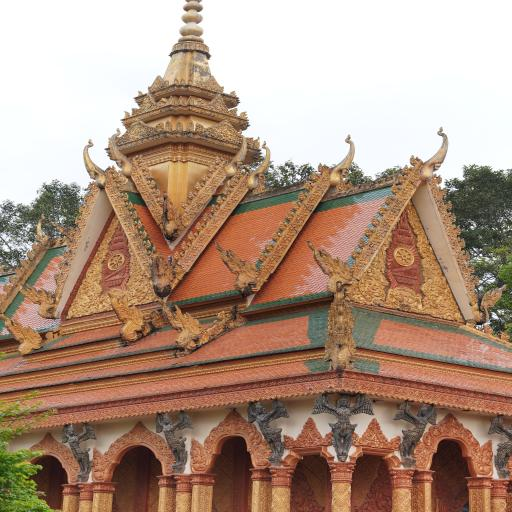lua: (238, 137, 290, 195), (410, 124, 460, 182), (325, 132, 369, 190), (218, 130, 251, 181), (102, 128, 136, 174), (77, 136, 108, 179), (31, 212, 46, 244), (43, 329, 58, 343), (348, 247, 364, 260), (193, 221, 209, 234), (184, 231, 200, 243), (177, 240, 194, 251), (220, 186, 236, 197), (276, 219, 288, 233), (284, 209, 298, 221), (2, 282, 16, 294), (172, 250, 187, 261), (375, 203, 387, 216), (390, 183, 403, 195), (146, 178, 159, 190), (369, 215, 383, 226), (256, 251, 270, 262), (204, 164, 218, 175), (178, 198, 192, 209), (232, 168, 247, 178), (383, 194, 395, 206), (396, 174, 408, 186), (432, 173, 444, 185), (451, 223, 463, 235), (456, 236, 468, 248), (465, 261, 477, 273), (264, 239, 276, 251), (271, 230, 283, 242), (212, 195, 228, 204), (212, 154, 224, 166), (297, 190, 310, 201), (303, 180, 317, 190), (13, 268, 27, 278), (223, 178, 238, 187), (364, 225, 376, 236), (208, 202, 219, 214), (200, 173, 212, 184), (193, 181, 204, 193), (154, 196, 166, 207), (437, 186, 447, 199), (290, 200, 303, 210), (316, 163, 329, 173), (137, 164, 150, 174), (131, 154, 144, 164), (20, 258, 33, 268), (8, 274, 21, 284), (200, 212, 214, 221), (186, 190, 200, 199), (30, 242, 41, 253), (356, 236, 366, 248), (401, 164, 411, 176), (447, 211, 457, 223), (462, 250, 472, 262), (470, 273, 480, 285), (142, 170, 154, 180), (129, 210, 141, 220), (56, 260, 68, 270), (25, 250, 37, 260), (442, 199, 452, 210), (151, 188, 162, 198), (142, 238, 152, 249), (77, 205, 88, 215), (33, 232, 44, 242), (60, 249, 72, 258), (344, 179, 354, 189), (68, 227, 78, 237), (64, 237, 74, 247), (138, 229, 147, 240), (310, 172, 322, 180), (123, 201, 135, 209), (86, 182, 98, 190), (0, 292, 8, 304), (75, 216, 84, 225), (134, 219, 142, 229), (120, 192, 130, 200), (52, 272, 60, 282), (82, 193, 90, 202), (109, 165, 117, 173), (116, 184, 126, 190), (114, 176, 122, 182)
ran: (152, 296, 253, 356), (321, 283, 364, 374), (102, 287, 170, 340), (211, 238, 274, 294), (305, 236, 364, 290), (11, 276, 61, 322), (471, 276, 511, 332), (0, 309, 46, 356), (136, 250, 181, 296), (153, 187, 187, 237), (51, 220, 80, 247), (172, 120, 185, 134), (182, 118, 195, 132), (161, 120, 174, 132), (184, 94, 197, 106), (238, 109, 250, 121), (175, 95, 186, 106), (228, 89, 240, 99), (168, 94, 176, 105), (178, 76, 186, 86), (185, 77, 195, 85), (122, 110, 131, 118), (135, 90, 144, 96), (172, 77, 178, 85)
than: (309, 392, 376, 467), (382, 398, 442, 470), (238, 400, 296, 469), (150, 411, 206, 476), (59, 419, 110, 484), (481, 414, 512, 480)
